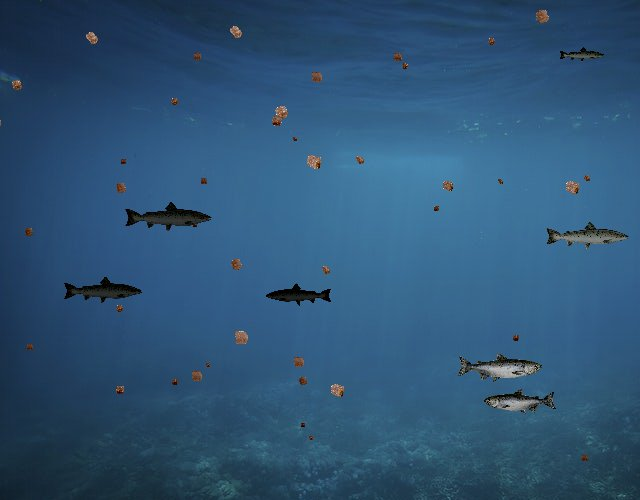Fish: (124, 201, 214, 233), (544, 220, 630, 251), (456, 352, 542, 383), (63, 276, 144, 305), (484, 389, 557, 415), (266, 282, 334, 306), (559, 46, 606, 63)
Pellet: (5, 74, 28, 96), (350, 151, 369, 170), (388, 48, 406, 66), (508, 331, 522, 345), (430, 202, 443, 215), (117, 155, 129, 167), (202, 360, 212, 370)
